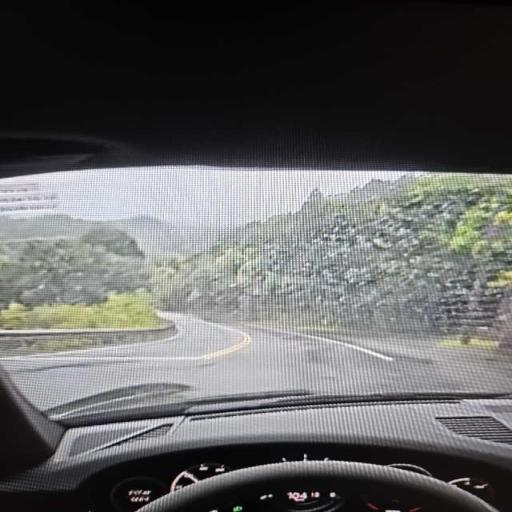car: (0, 3, 511, 511)
lane: (2, 314, 495, 408)
